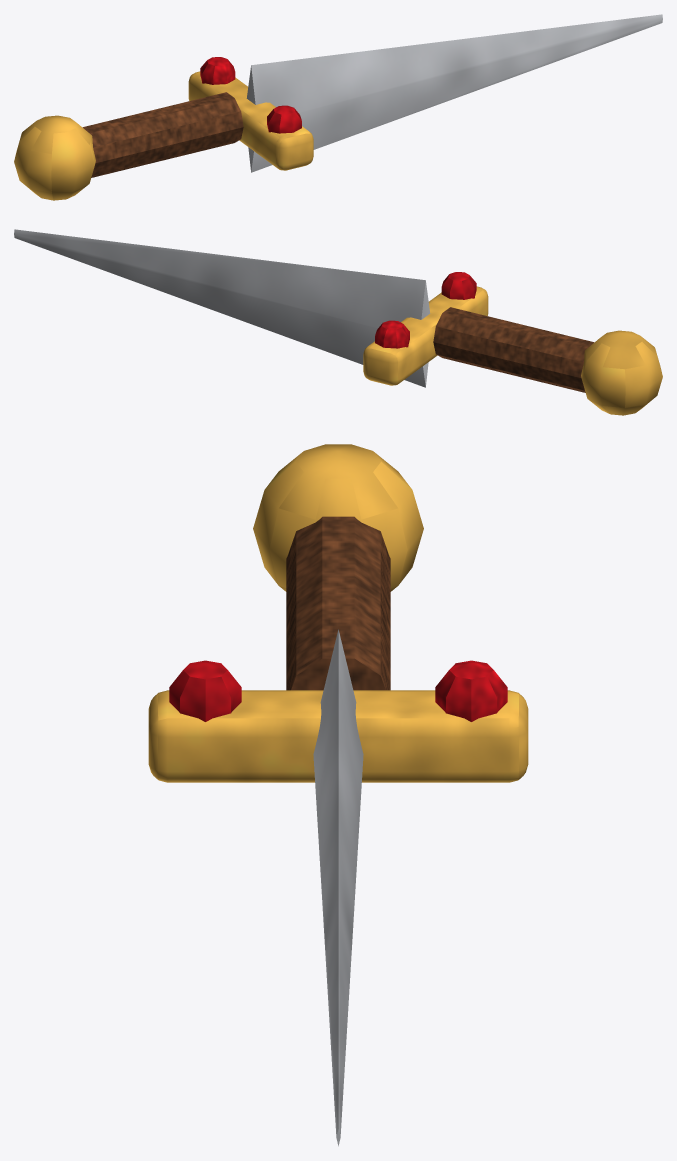
File: dagger.gltf
The picture shows the model from 3 angles, top to bottom: view 1: azimuth 30°, elevation 25°; view 2: azimuth 150°, elevation 25°; view 3: azimuth 270°, elevation 25°; orthographic projection. The views are drawn at different scales.
Visible parts, largest first — view 1: Dagger; view 2: Dagger; view 3: Dagger.
Part boxes in pixels (box(x1,y1,x2,y2)): Dagger: box(14, 14, 662, 200); Dagger: box(14, 229, 662, 415); Dagger: box(148, 444, 528, 1146).
Bounding box in the file's own units: 0.3121 × 0.05 × 0.08.
Materials: 3 (3 with a texture image).
